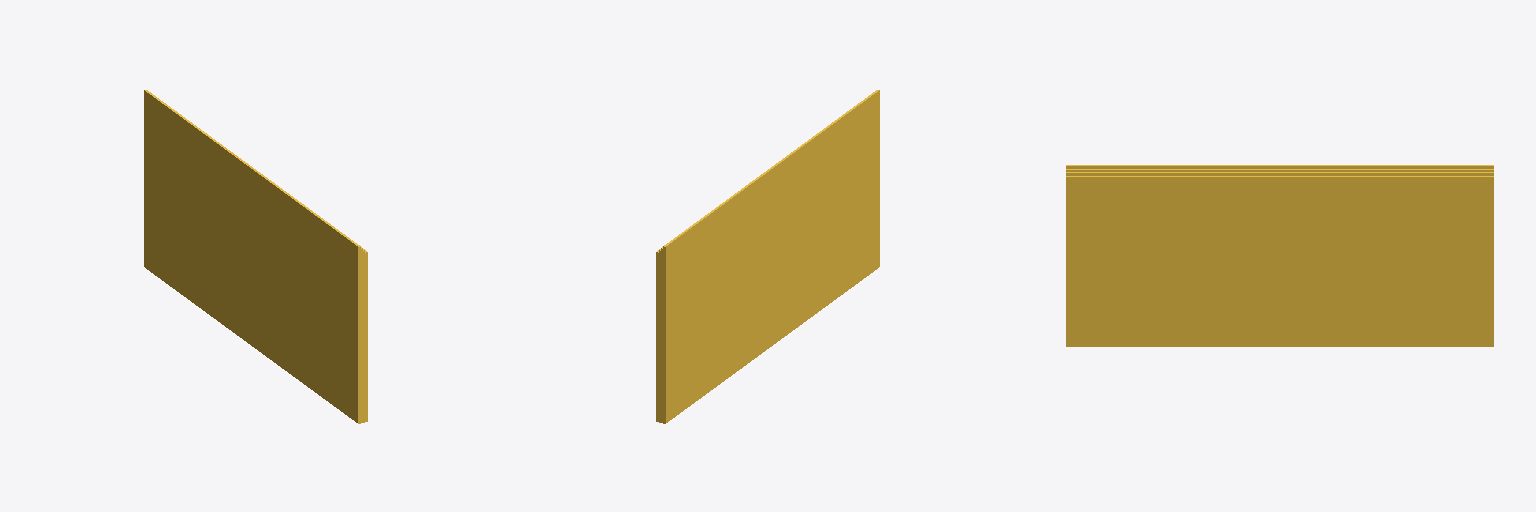
The picture shows the model from 3 angles: view 1: azimuth 30°, elevation 25°; view 2: azimuth 150°, elevation 25°; view 3: azimuth 270°, elevation 25°; orthographic projection.
Visible parts, largest first — view 1: Pared_baja_Cube.003; view 2: Pared_baja_Cube.003; view 3: Pared_baja_Cube.003.
Boxes of the visible parts, x1,y1,x2,y2 form: Pared_baja_Cube.003: [144, 90, 367, 423]; Pared_baja_Cube.003: [656, 90, 879, 423]; Pared_baja_Cube.003: [1066, 165, 1493, 346].
Size of the model in its own units: 0.2 by 3.65 by 8.